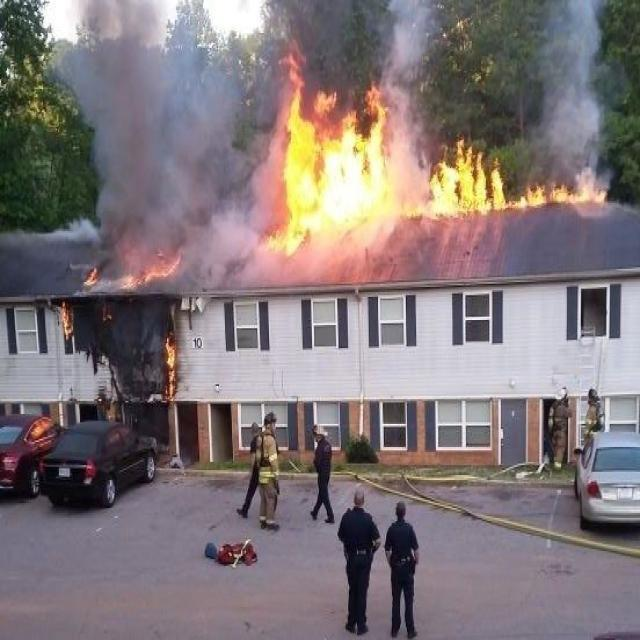Fire: (241, 76, 424, 239), (432, 139, 510, 217), (518, 181, 609, 214), (87, 462, 98, 480)
Smoke: (82, 4, 200, 143)
